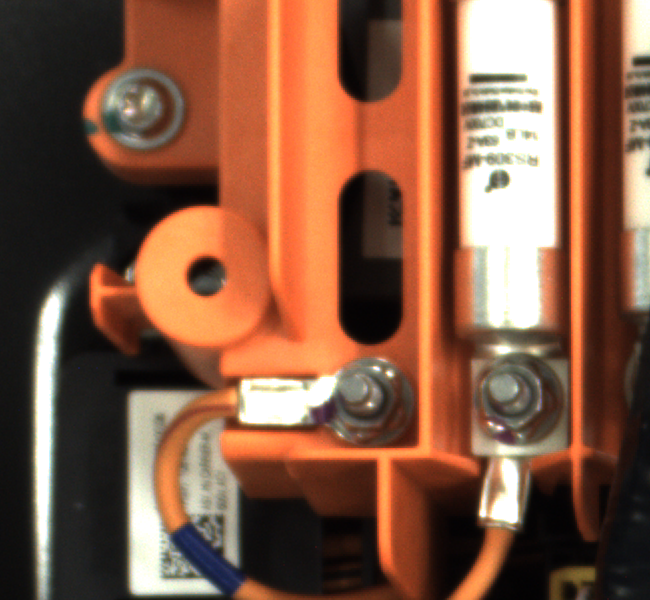screw_m: (93, 61, 203, 157)
screw_s: (320, 353, 421, 446), (469, 355, 565, 441)
